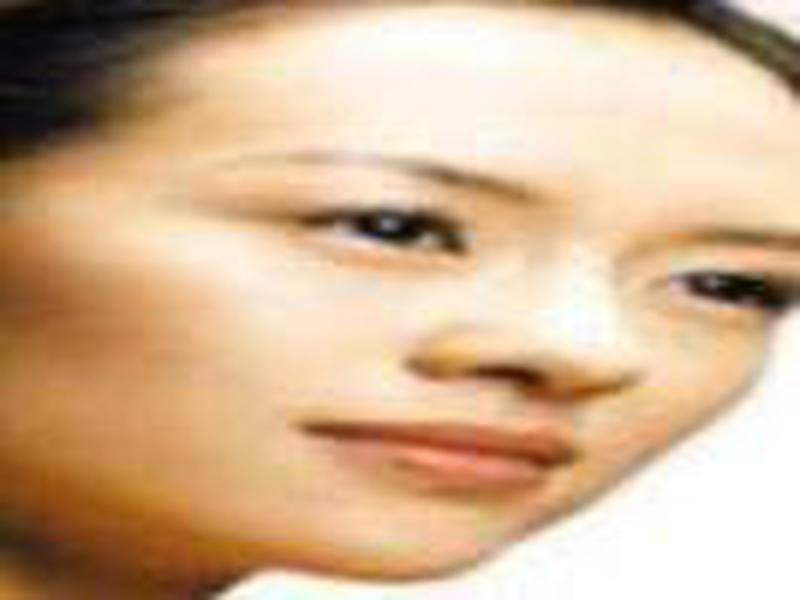without_mask: (29, 27, 800, 580)
